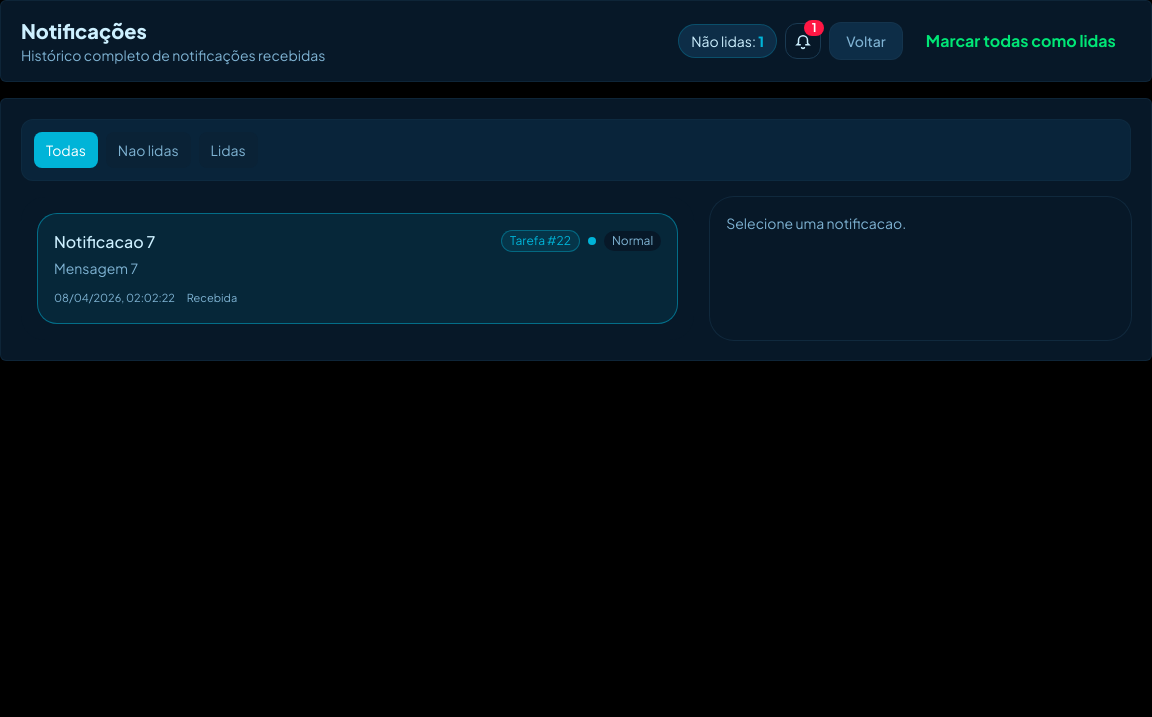
Test: UserDashboard › mostra o identificador da tarefa vinculada no detalhe da notificacao
Step 1. Click the button "Notificacao 7" → (105, 242), box [37,213,678,324]
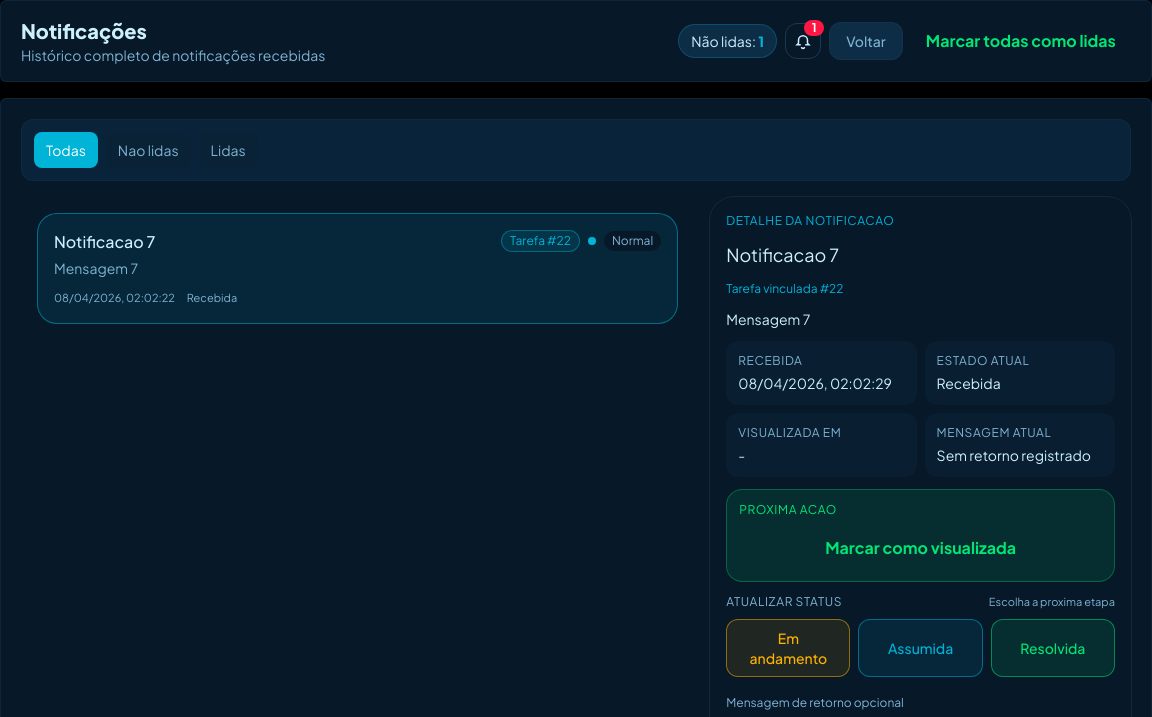
Expected: the text "Tarefa vinculada #22" is shown, [726,281,844,296]
